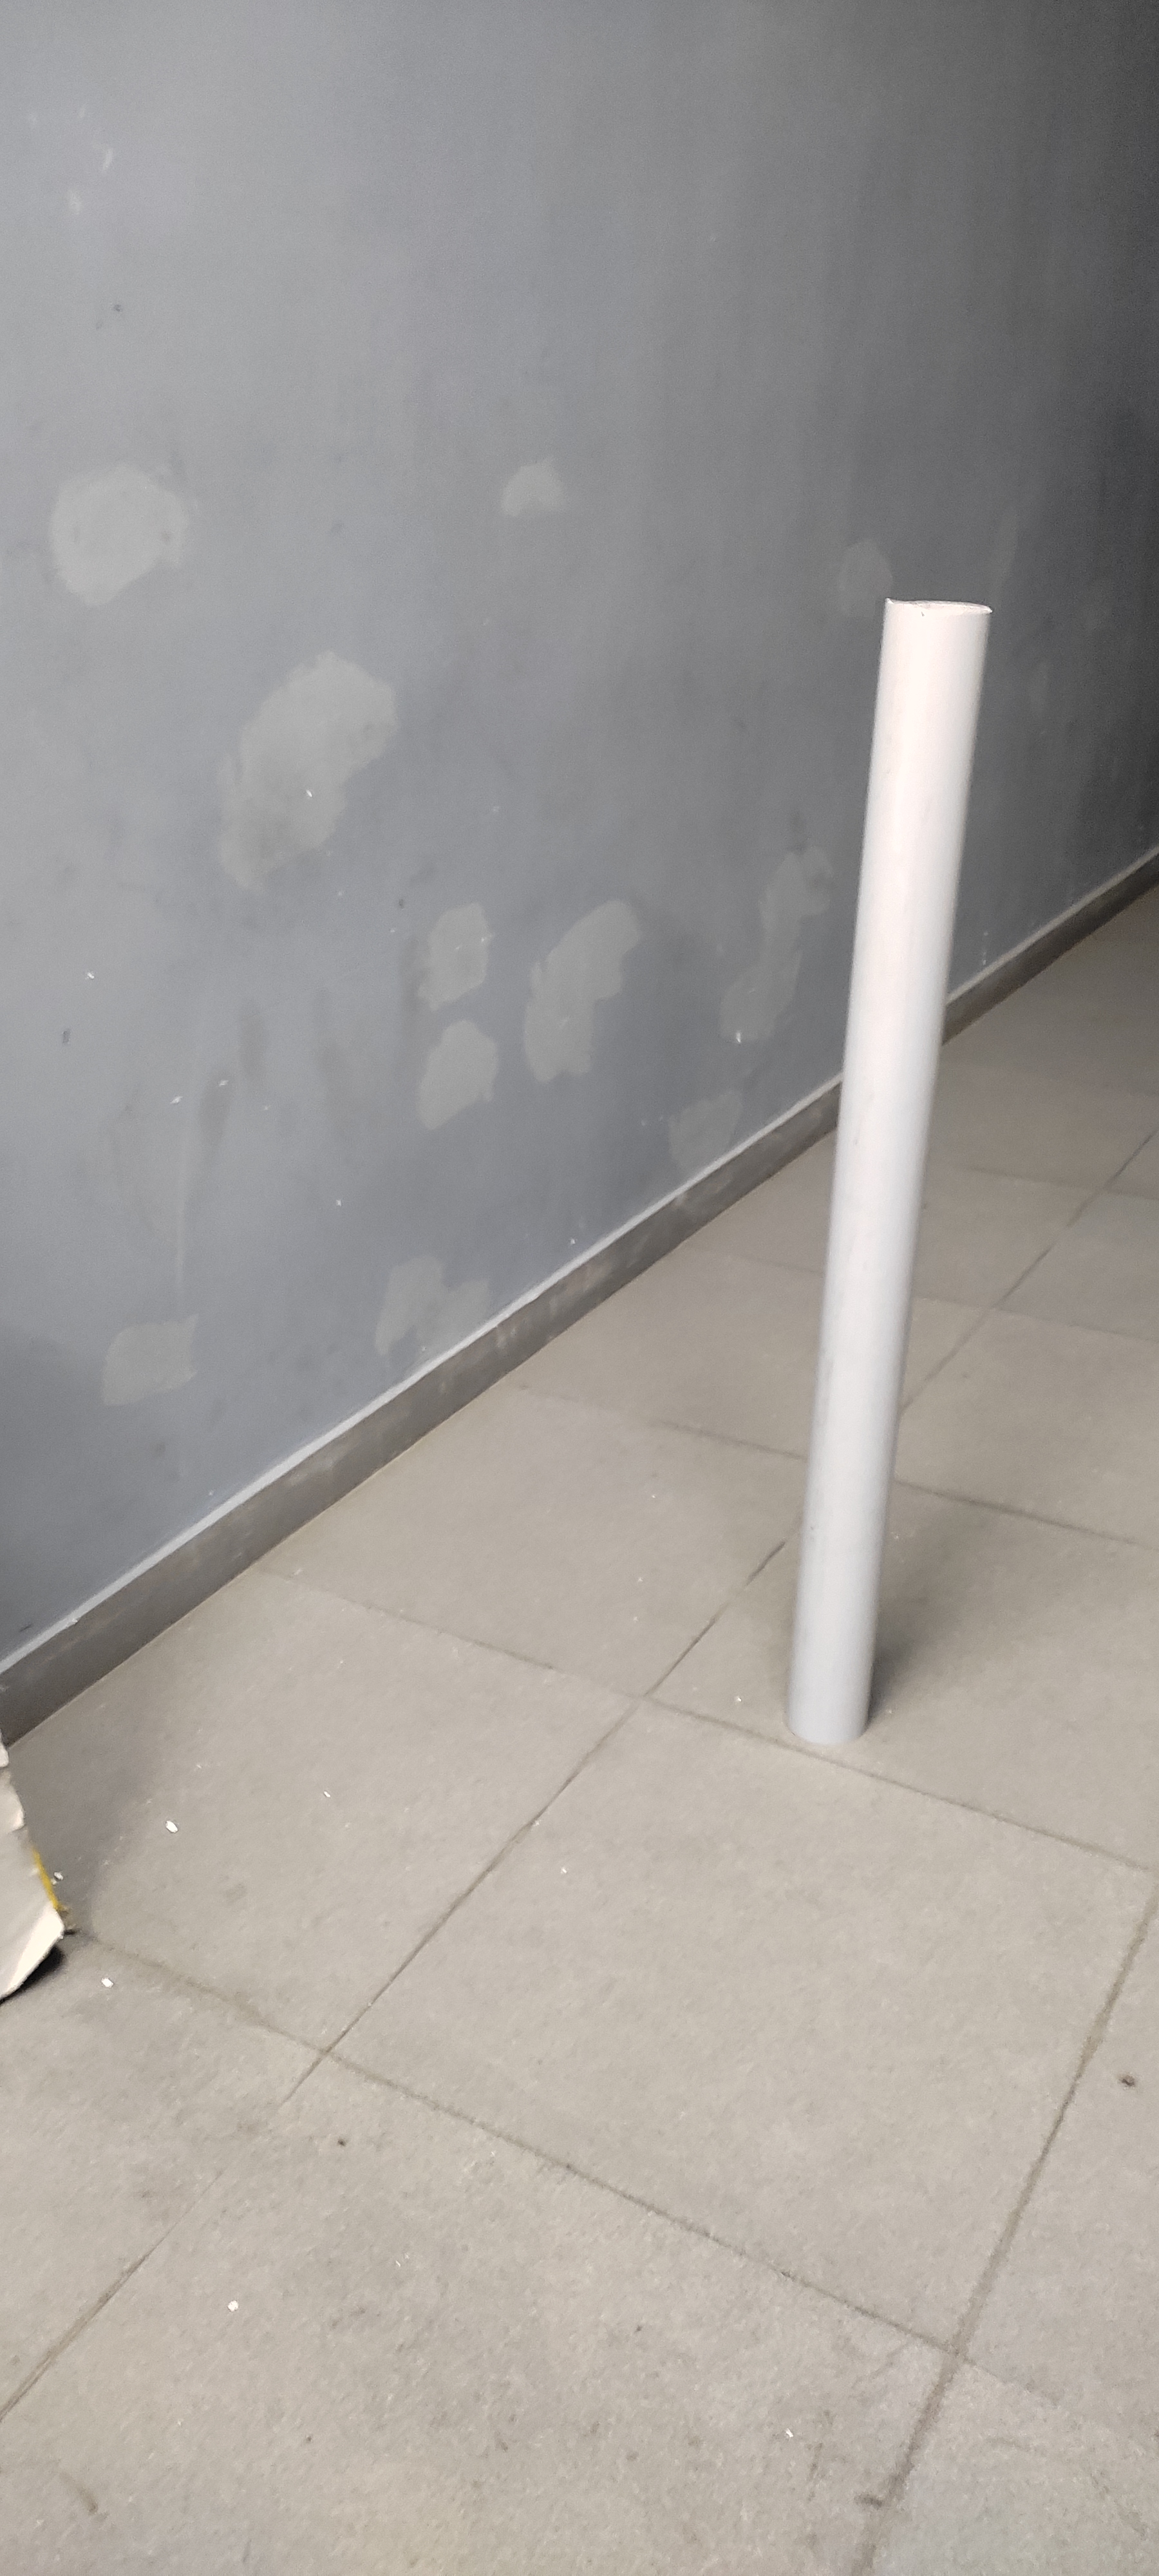pole: (286, 248, 438, 1359)
